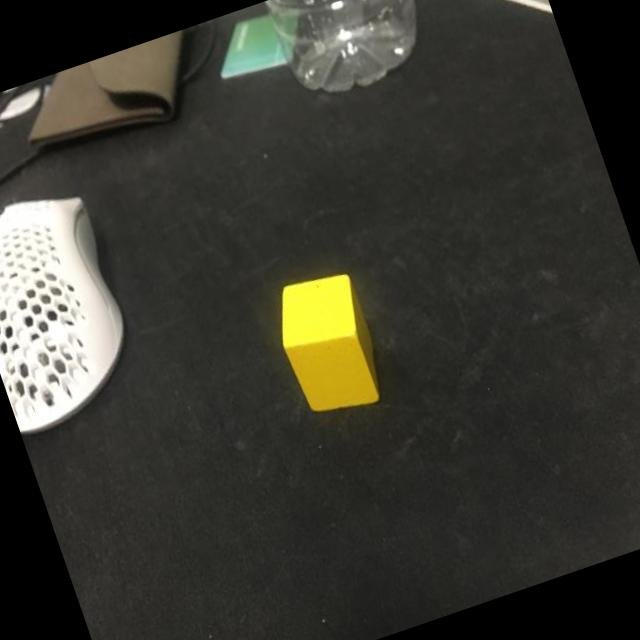yellow: (263, 263, 392, 425)
